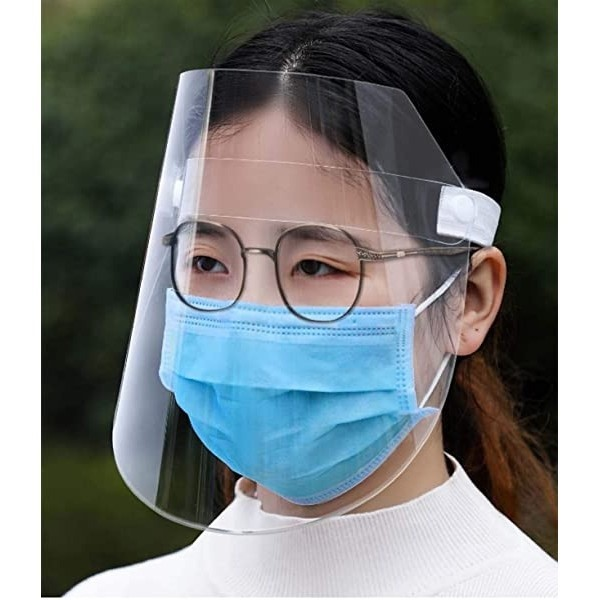face_with_mask: (153, 63, 509, 507)
